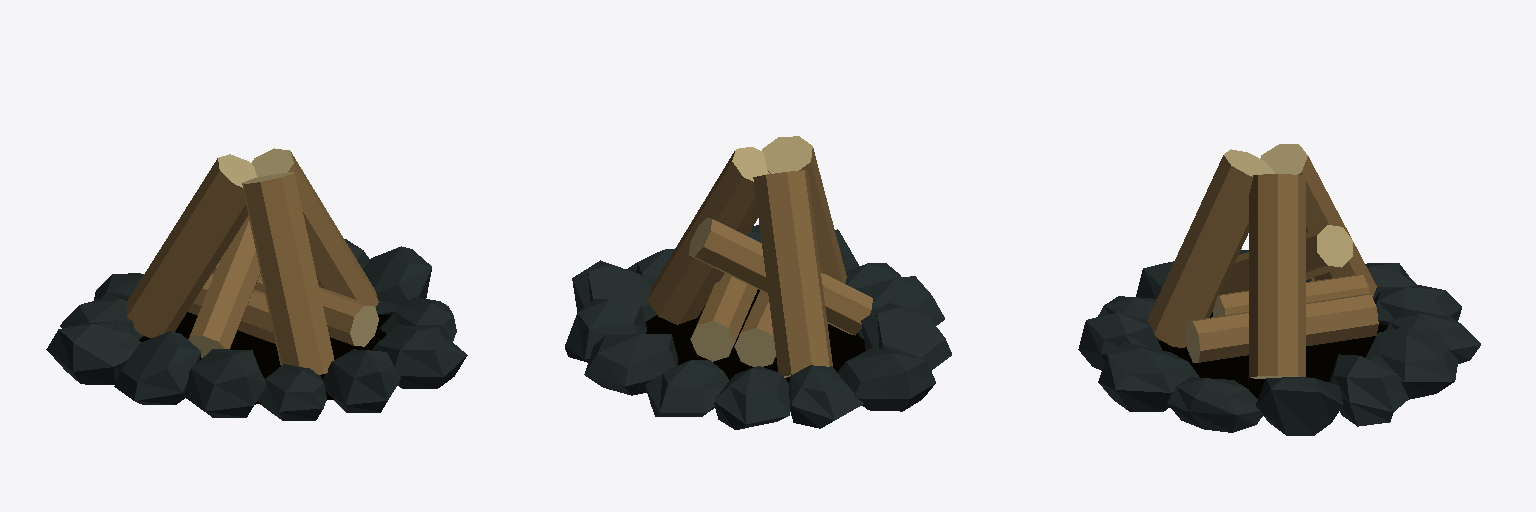
The model's file is campfire.obj.
The picture shows the model from 3 angles: view 1: azimuth 30°, elevation 25°; view 2: azimuth 150°, elevation 25°; view 3: azimuth 270°, elevation 25°; orthographic projection.
Parts seen in each view (by area): view 1: Kindle.002_Cylinder.002, Kindle.001_Cylinder.001, Kindle.004_Cylinder.004, Rock.001_Sphere.001, Rock.002_Sphere.002, Kindle_Cylinder, Rock_Sphere, Rock.005_Sphere.006, Rock.004_Sphere.005, Rock.007_Sphere.008, Rock.003_Sphere.003, Ashes_Circle (+8 smaller); view 2: Kindle.001_Cylinder.001, Kindle_Cylinder, Kindle.004_Cylinder.004, Rock_Sphere, Rock.009_Sphere.010, Rock.011_Sphere.012, Rock.001_Sphere.001, Rock.010_Sphere.011, Rock.012_Sphere.013, Rock.008_Sphere.009, Ashes_Circle, Rock.007_Sphere.008 (+10 smaller); view 3: Kindle_Cylinder, Kindle.002_Cylinder.002, Kindle.003_Cylinder.003, Rock.005_Sphere.006, Rock.009_Sphere.010, Rock.007_Sphere.008, Rock.006_Sphere.007, Rock.008_Sphere.009, Ashes_Circle, Rock.004_Sphere.005, Kindle.001_Cylinder.001, Rock.011_Sphere.012 (+9 smaller).
Part boxes in pixels (x1,y1,x2,y2): Kindle.002_Cylinder.002: (242,173,333,374); Kindle.001_Cylinder.001: (126,158,247,337); Kindle.004_Cylinder.004: (190,216,260,349); Rock.001_Sphere.001: (114,331,200,404); Rock.002_Sphere.002: (183,349,265,417); Kindle_Cylinder: (288,152,378,307); Rock_Sphere: (46,321,140,384); Rock.005_Sphere.006: (371,325,467,388); Rock.004_Sphere.005: (323,349,400,412); Rock.007_Sphere.008: (363,246,431,314); Rock.003_Sphere.003: (257,364,326,420); Ashes_Circle: (139,312,391,404); Kindle.001_Cylinder.001: (753,170,832,375); Kindle_Cylinder: (647,151,757,324); Kindle.004_Cylinder.004: (689,219,872,335); Rock_Sphere: (838,348,935,411); Rock.009_Sphere.010: (584,334,677,395); Rock.011_Sphere.012: (714,366,789,429); Rock.001_Sphere.001: (861,303,951,370); Rock.010_Sphere.011: (645,360,729,416); Rock.012_Sphere.013: (789,365,863,428); Rock.008_Sphere.009: (565,299,646,362); Ashes_Circle: (646,289,865,404); Rock.007_Sphere.008: (572,260,656,321); Kindle_Cylinder: (1249,174,1305,377); Kindle.002_Cylinder.002: (1147,155,1252,347); Kindle.003_Cylinder.003: (1191,294,1378,362); Rock.005_Sphere.006: (1098,342,1199,411); Rock.009_Sphere.010: (1366,326,1457,399); Rock.007_Sphere.008: (1256,377,1342,435); Rock.006_Sphere.007: (1167,377,1262,432); Rock.008_Sphere.009: (1329,354,1408,426); Ashes_Circle: (1158,312,1387,398); Rock.004_Sphere.005: (1078,313,1161,370); Kindle.001_Cylinder.001: (1298,156,1376,296); Rock.011_Sphere.012: (1374,285,1461,324).
Bounding box in the file's own units: 1.01 × 0.5456 × 0.9975.